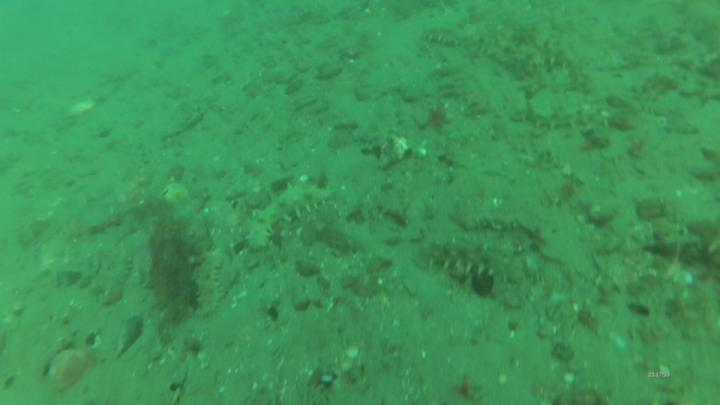holothurian: (244, 176, 338, 252), (430, 235, 508, 283), (510, 18, 567, 66), (516, 101, 598, 130), (189, 252, 226, 316), (486, 37, 536, 80), (105, 251, 136, 308), (423, 27, 462, 47)
